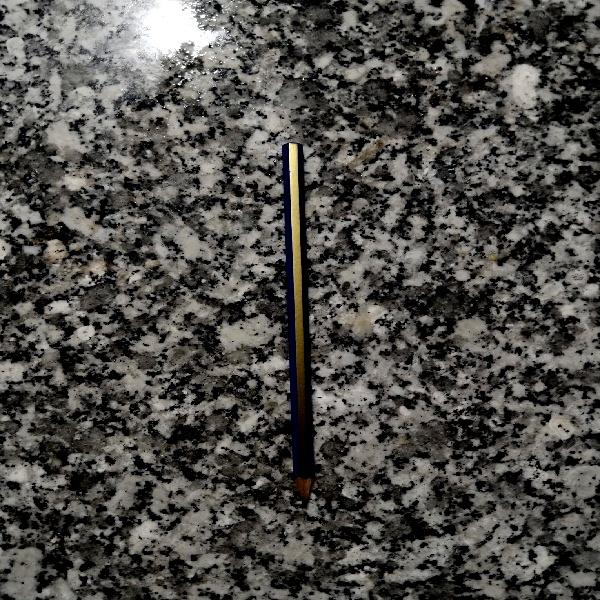pencil: (280, 139, 322, 510)
